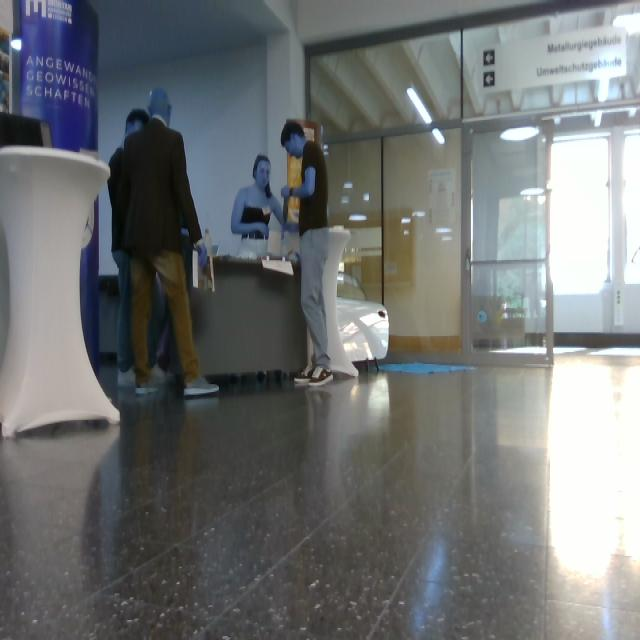desk: (191, 257, 309, 378), (101, 277, 119, 364)
door: (311, 5, 640, 366), (631, 361, 640, 364)
light bulb: (409, 88, 433, 125), (433, 129, 445, 145), (11, 38, 21, 52)
person: (125, 90, 219, 396), (282, 121, 333, 385), (109, 145, 139, 388), (232, 156, 298, 256), (126, 109, 150, 142), (151, 301, 162, 369)
pillar: (1, 1, 13, 113), (1, 221, 10, 370)
table: (1, 148, 119, 436), (323, 229, 358, 377)
tiled floor: (1, 358, 640, 640)
